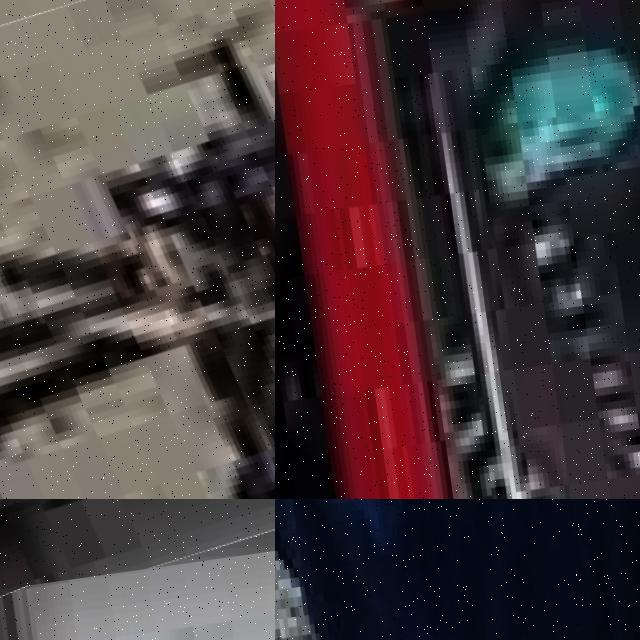drone: (0, 0, 275, 499), (0, 499, 275, 612)
